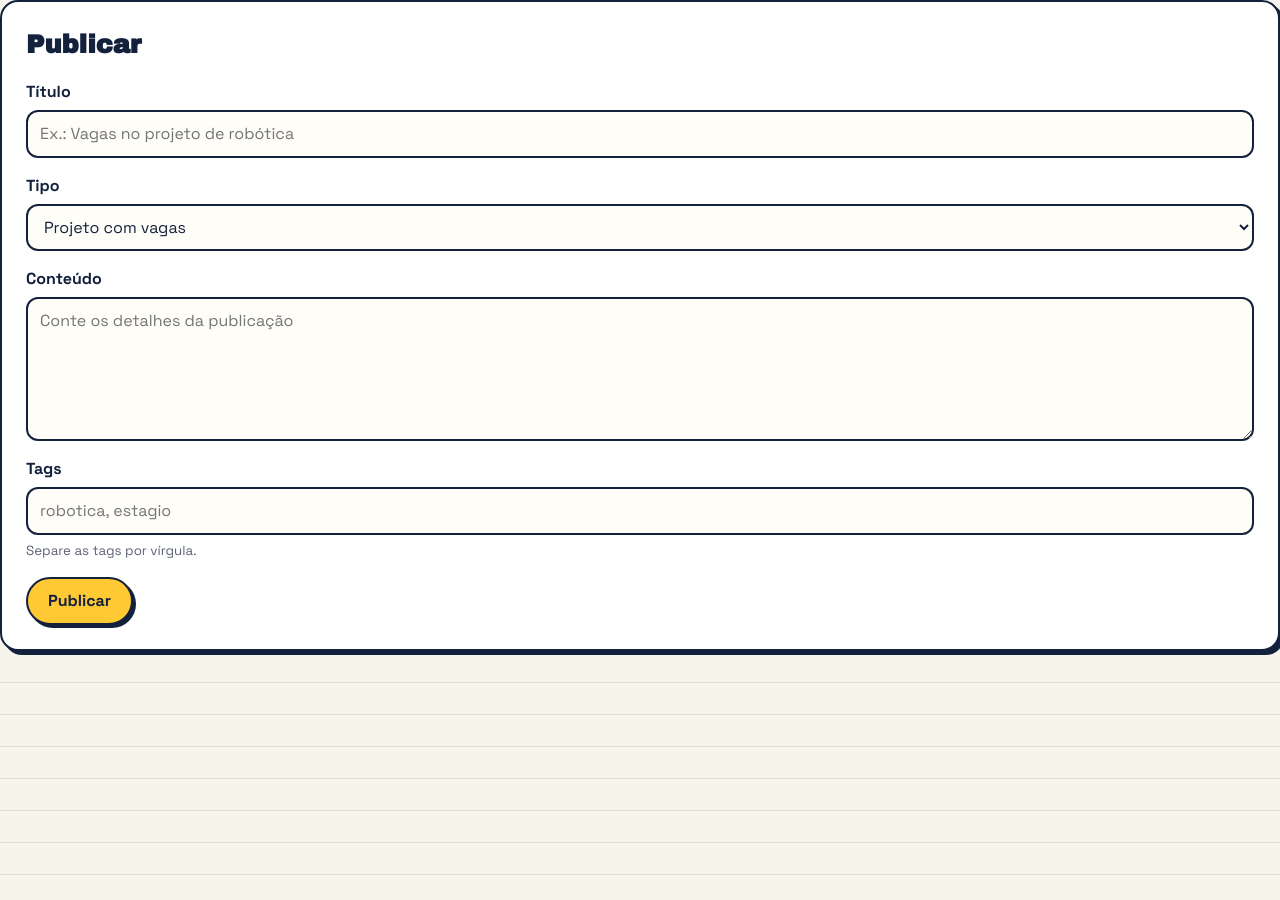
PostForm › envia os dados normalizados e limpa o formulário
The image size is (1280, 900).
Step 1. Type "  Feira de Ciências  " into the field labelled "Título" → (640, 134), box x1=26 y1=110 x2=1254 y2=158
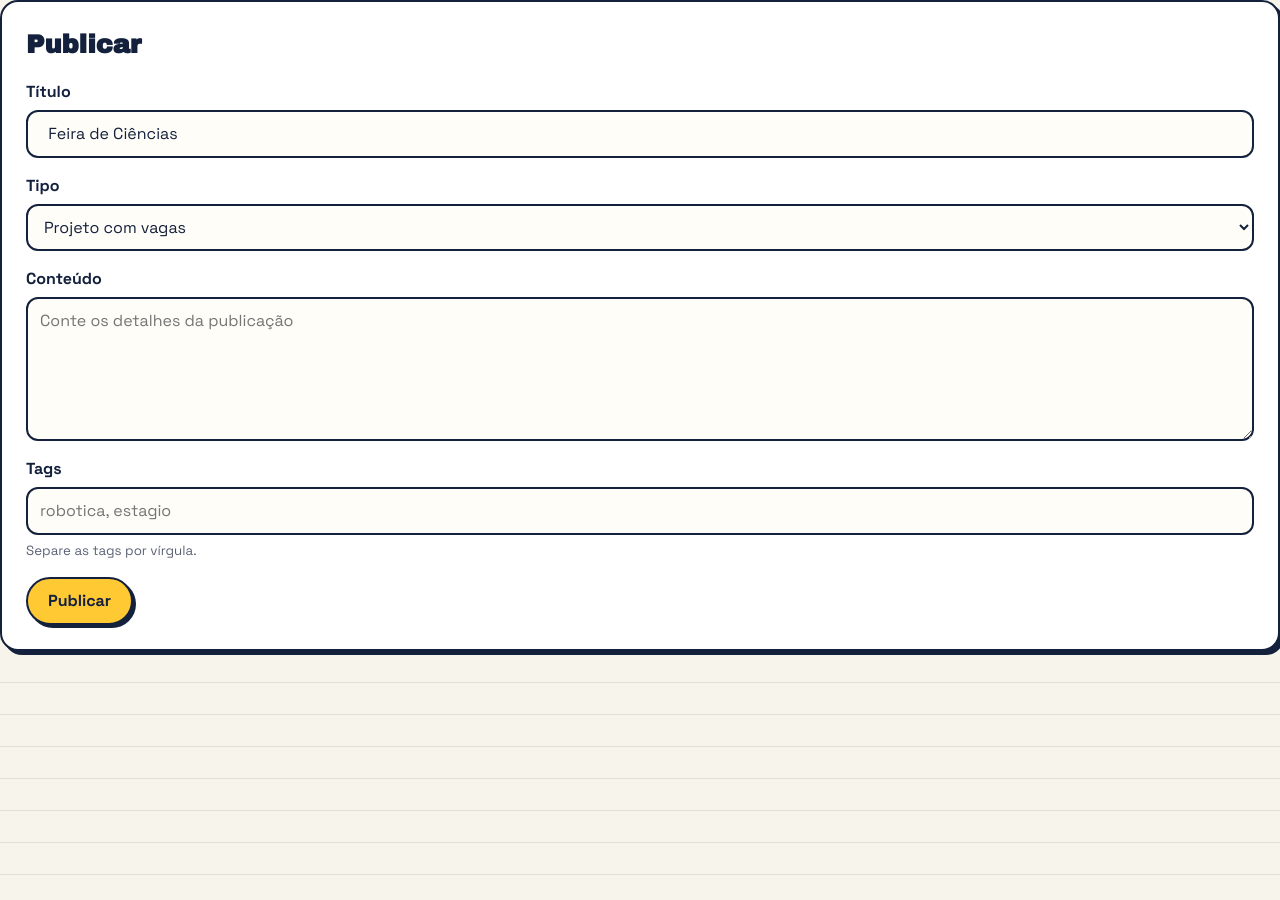
Step 2. Select "Evento" in the dropdown labelled "Tipo" → (640, 228), box x1=26 y1=204 x2=1254 y2=251
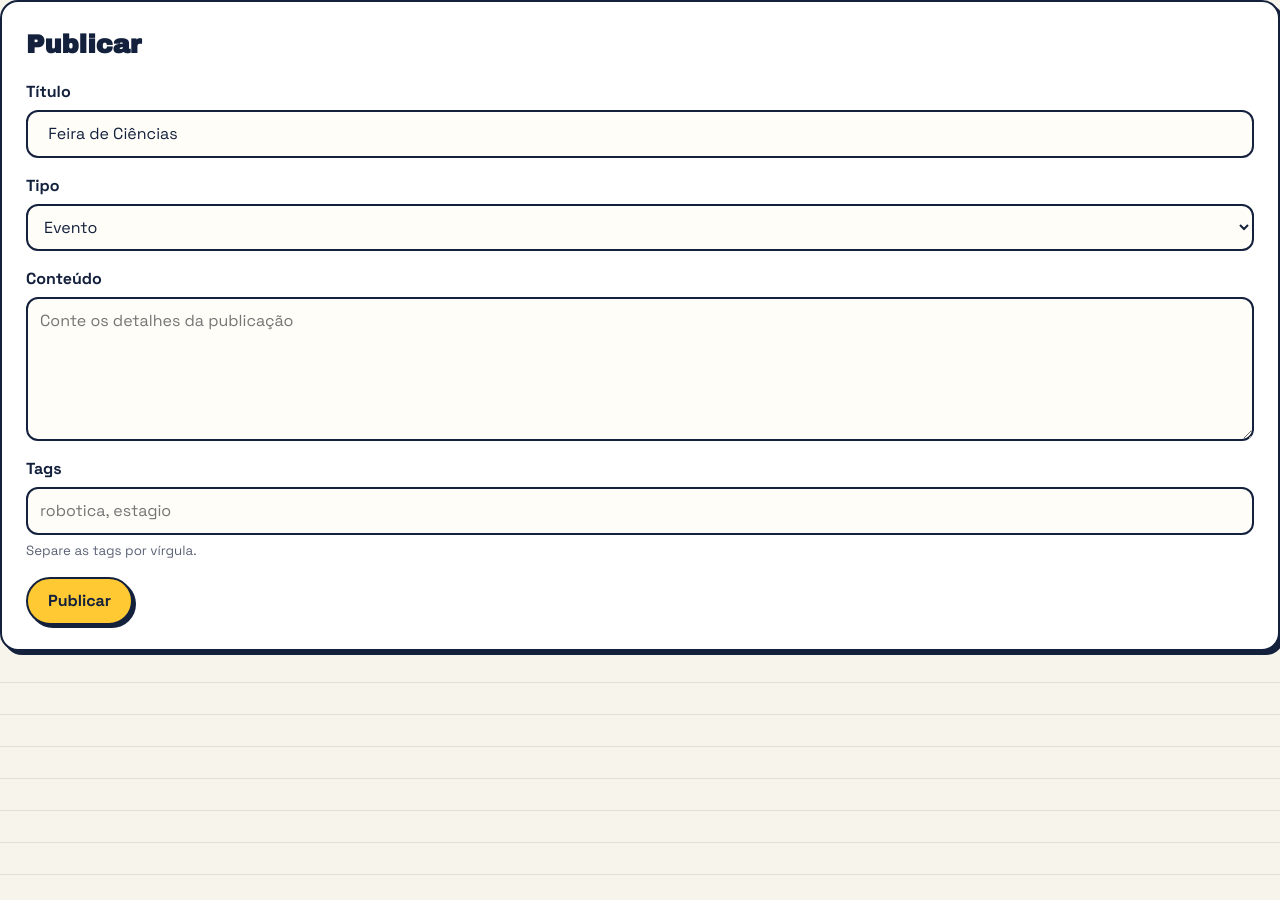
Step 3. Type "No ginásio, às 9h." into the text box labelled "Conteúdo" → (640, 369), box x1=26 y1=297 x2=1254 y2=441
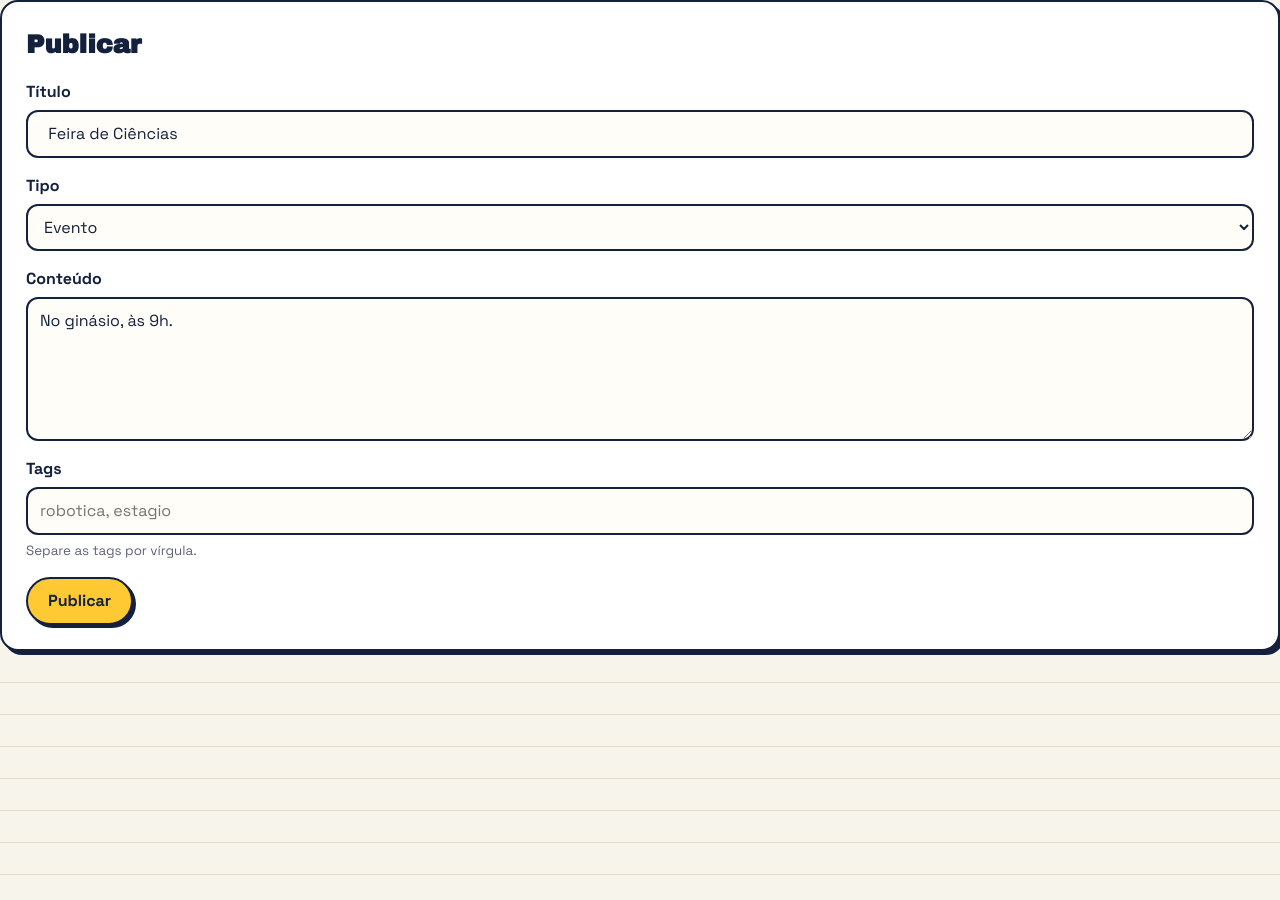
Step 4. Type "Feira, ciencias, FEIRA" into the field labelled "Tags" → (640, 511), box x1=26 y1=487 x2=1254 y2=535
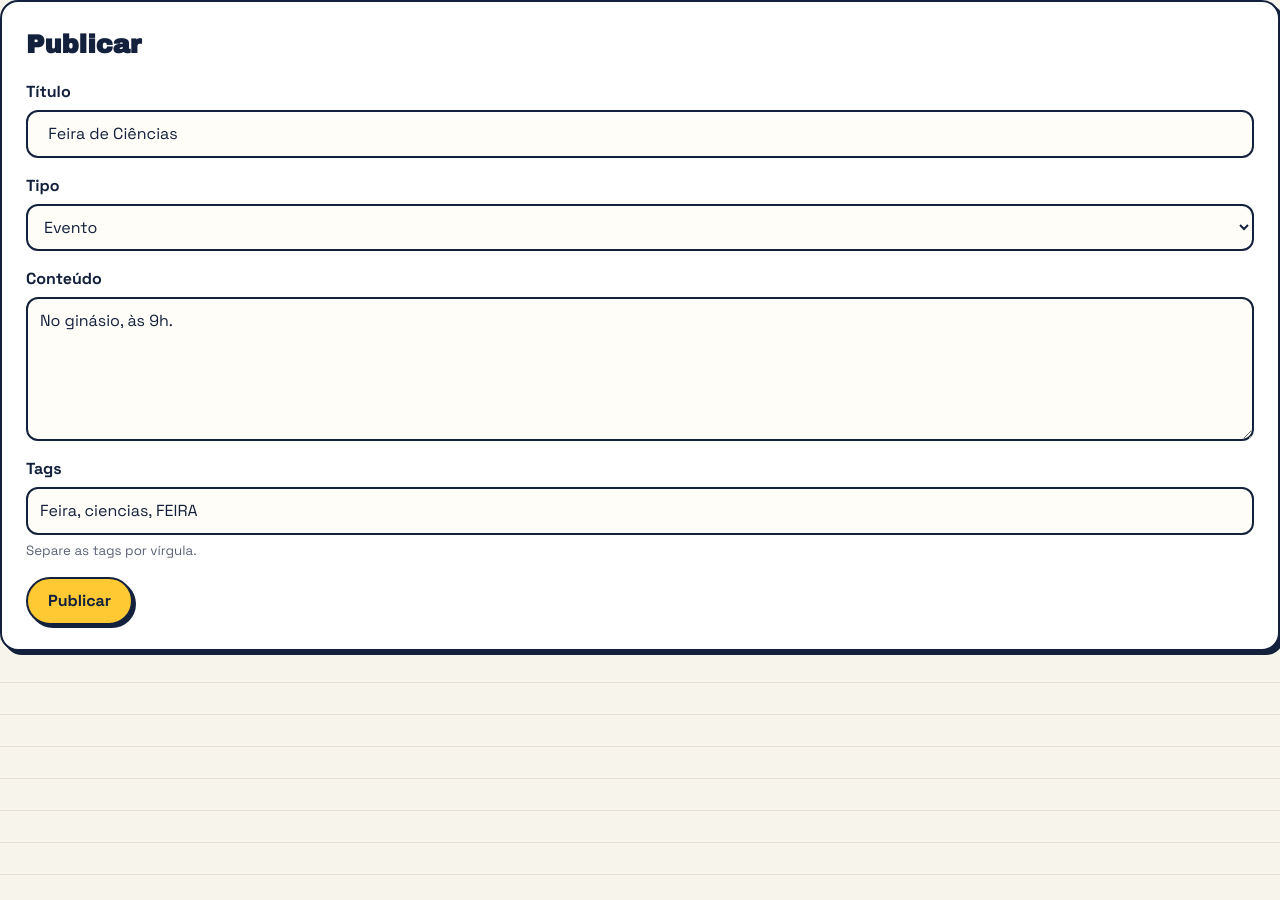
Step 5. Click the button "Publicar" → (80, 601), box x1=26 y1=577 x2=133 y2=625
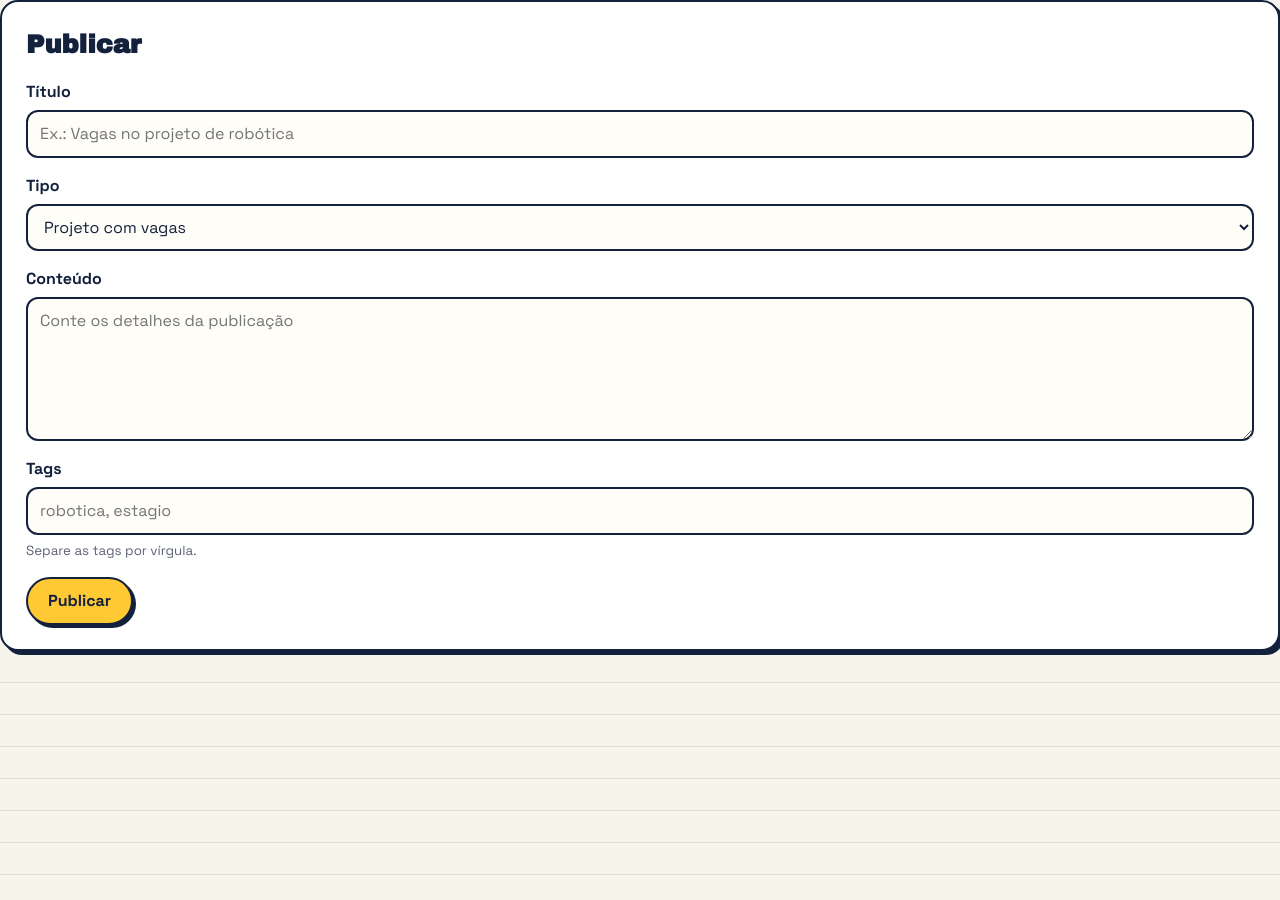
Now the field labelled "Título" is empty, box x1=26 y1=110 x2=1254 y2=158
